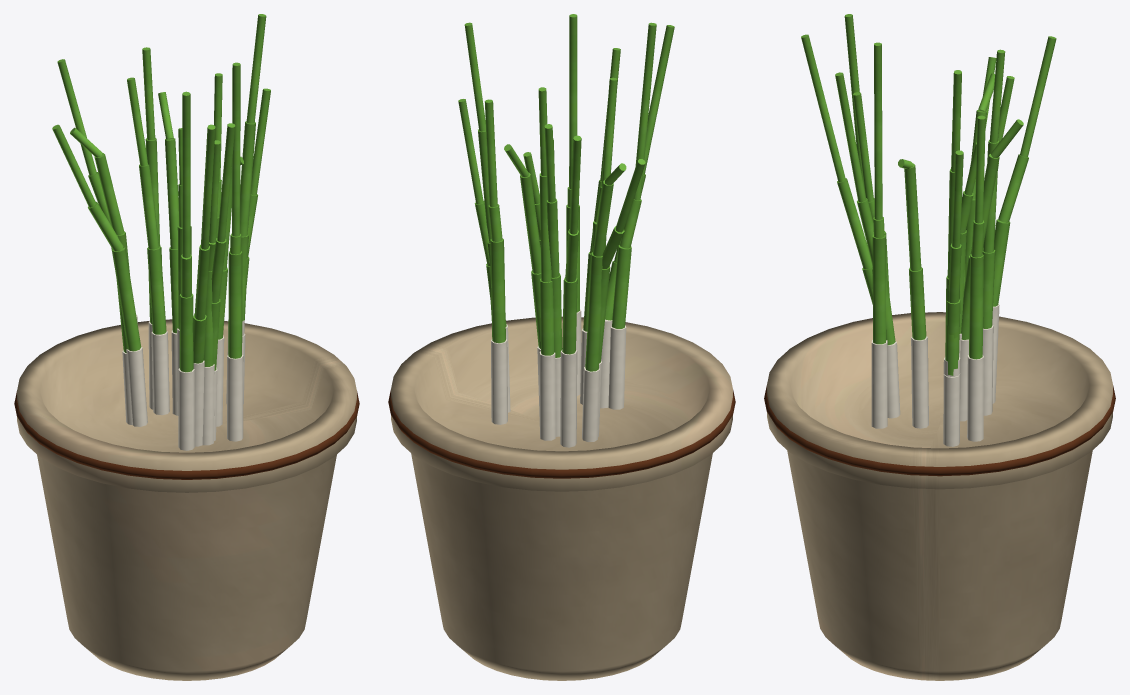
Rendered from PROP_WarmWood_Scallion_Sill.glb.
3 views of the same model, side by side, from view 1: azimuth 30°, elevation 25°; view 2: azimuth 150°, elevation 25°; view 3: azimuth 270°, elevation 25° (orthographic).
Visible parts, largest first — view 1: PROP_WarmWood_Scallion_Sill; view 2: PROP_WarmWood_Scallion_Sill; view 3: PROP_WarmWood_Scallion_Sill.
Boxes of the visible parts, box(x1,y1,x2,y2) form: PROP_WarmWood_Scallion_Sill: box(14, 14, 359, 680); PROP_WarmWood_Scallion_Sill: box(388, 14, 735, 680); PROP_WarmWood_Scallion_Sill: box(764, 14, 1115, 680).
Size of the model in its own units: 0.36 by 0.686 by 0.36.
Materials: 5 (5 with a texture image).
